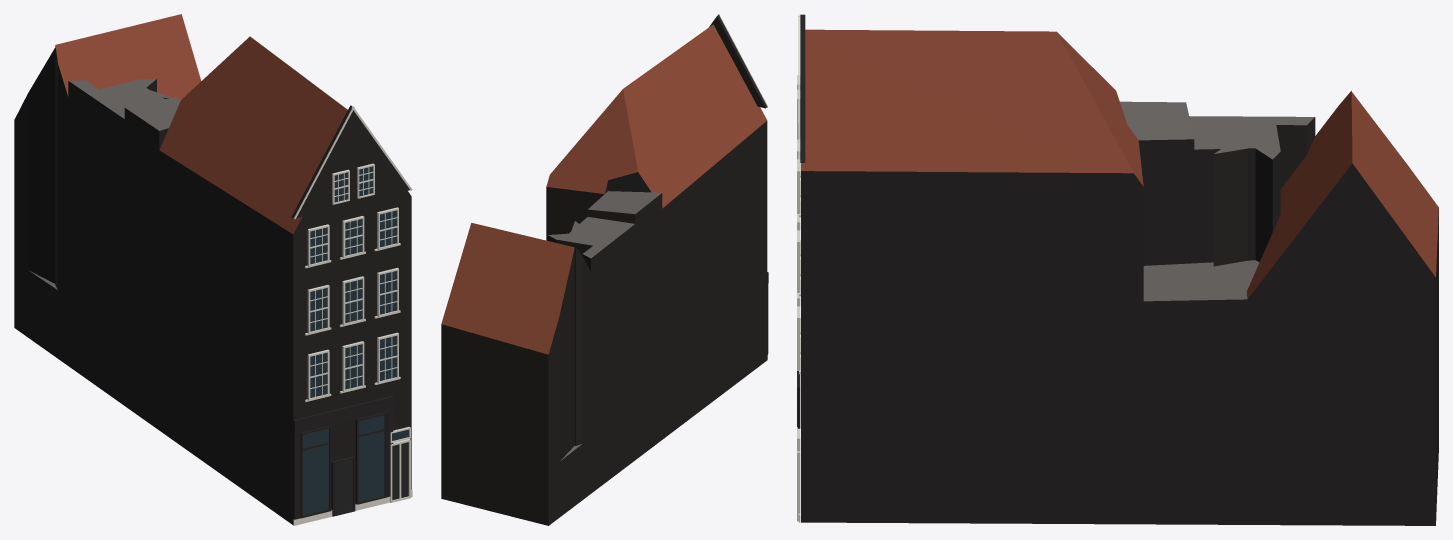
The picture shows the model from 3 angles, left to right: view 1: azimuth 30°, elevation 25°; view 2: azimuth 150°, elevation 25°; view 3: azimuth 270°, elevation 25°; orthographic projection. The views are drawn at different scales.
Visible parts, largest first — view 1: spec-0363100012173481; view 2: spec-0363100012173481; view 3: spec-0363100012173481.
Boxes of the visible parts, x1=… form: spec-0363100012173481: x1=14, y1=14, x2=412, y2=525; spec-0363100012173481: x1=441, y1=14, x2=768, y2=525; spec-0363100012173481: x1=797, y1=14, x2=1438, y2=525.
Size of the model in its own units: 6.36 by 18.73 by 22.95.
